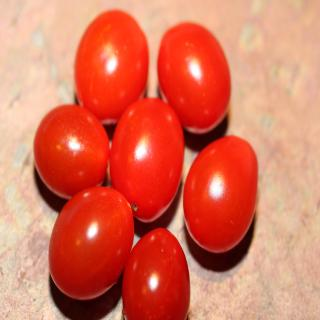tomato: (44, 186, 134, 303), (111, 97, 185, 223), (182, 134, 258, 254), (76, 9, 150, 128), (158, 22, 230, 135), (33, 102, 109, 200), (121, 225, 190, 319)
